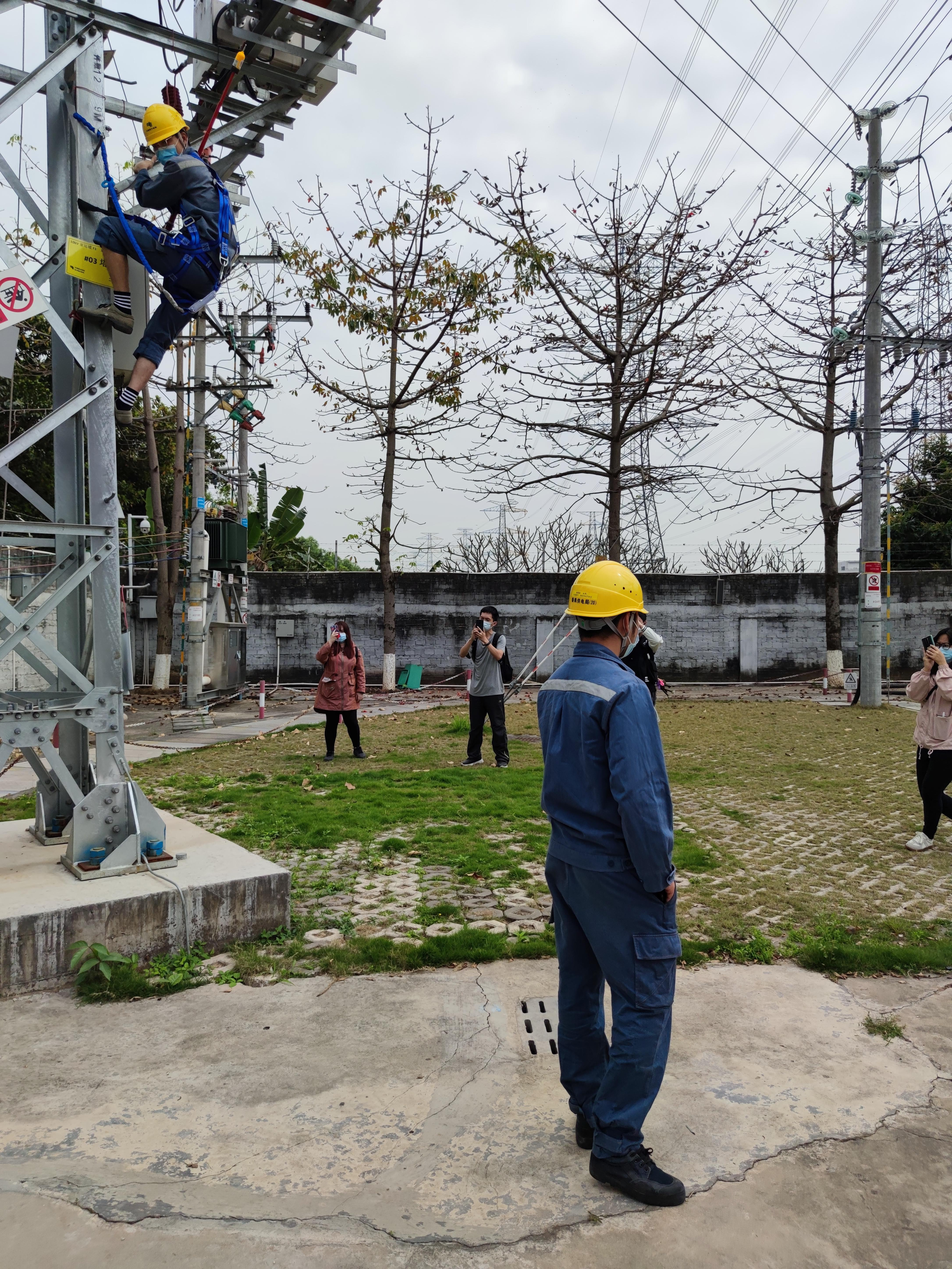绝缘操作杆: (162, 43, 247, 232)
